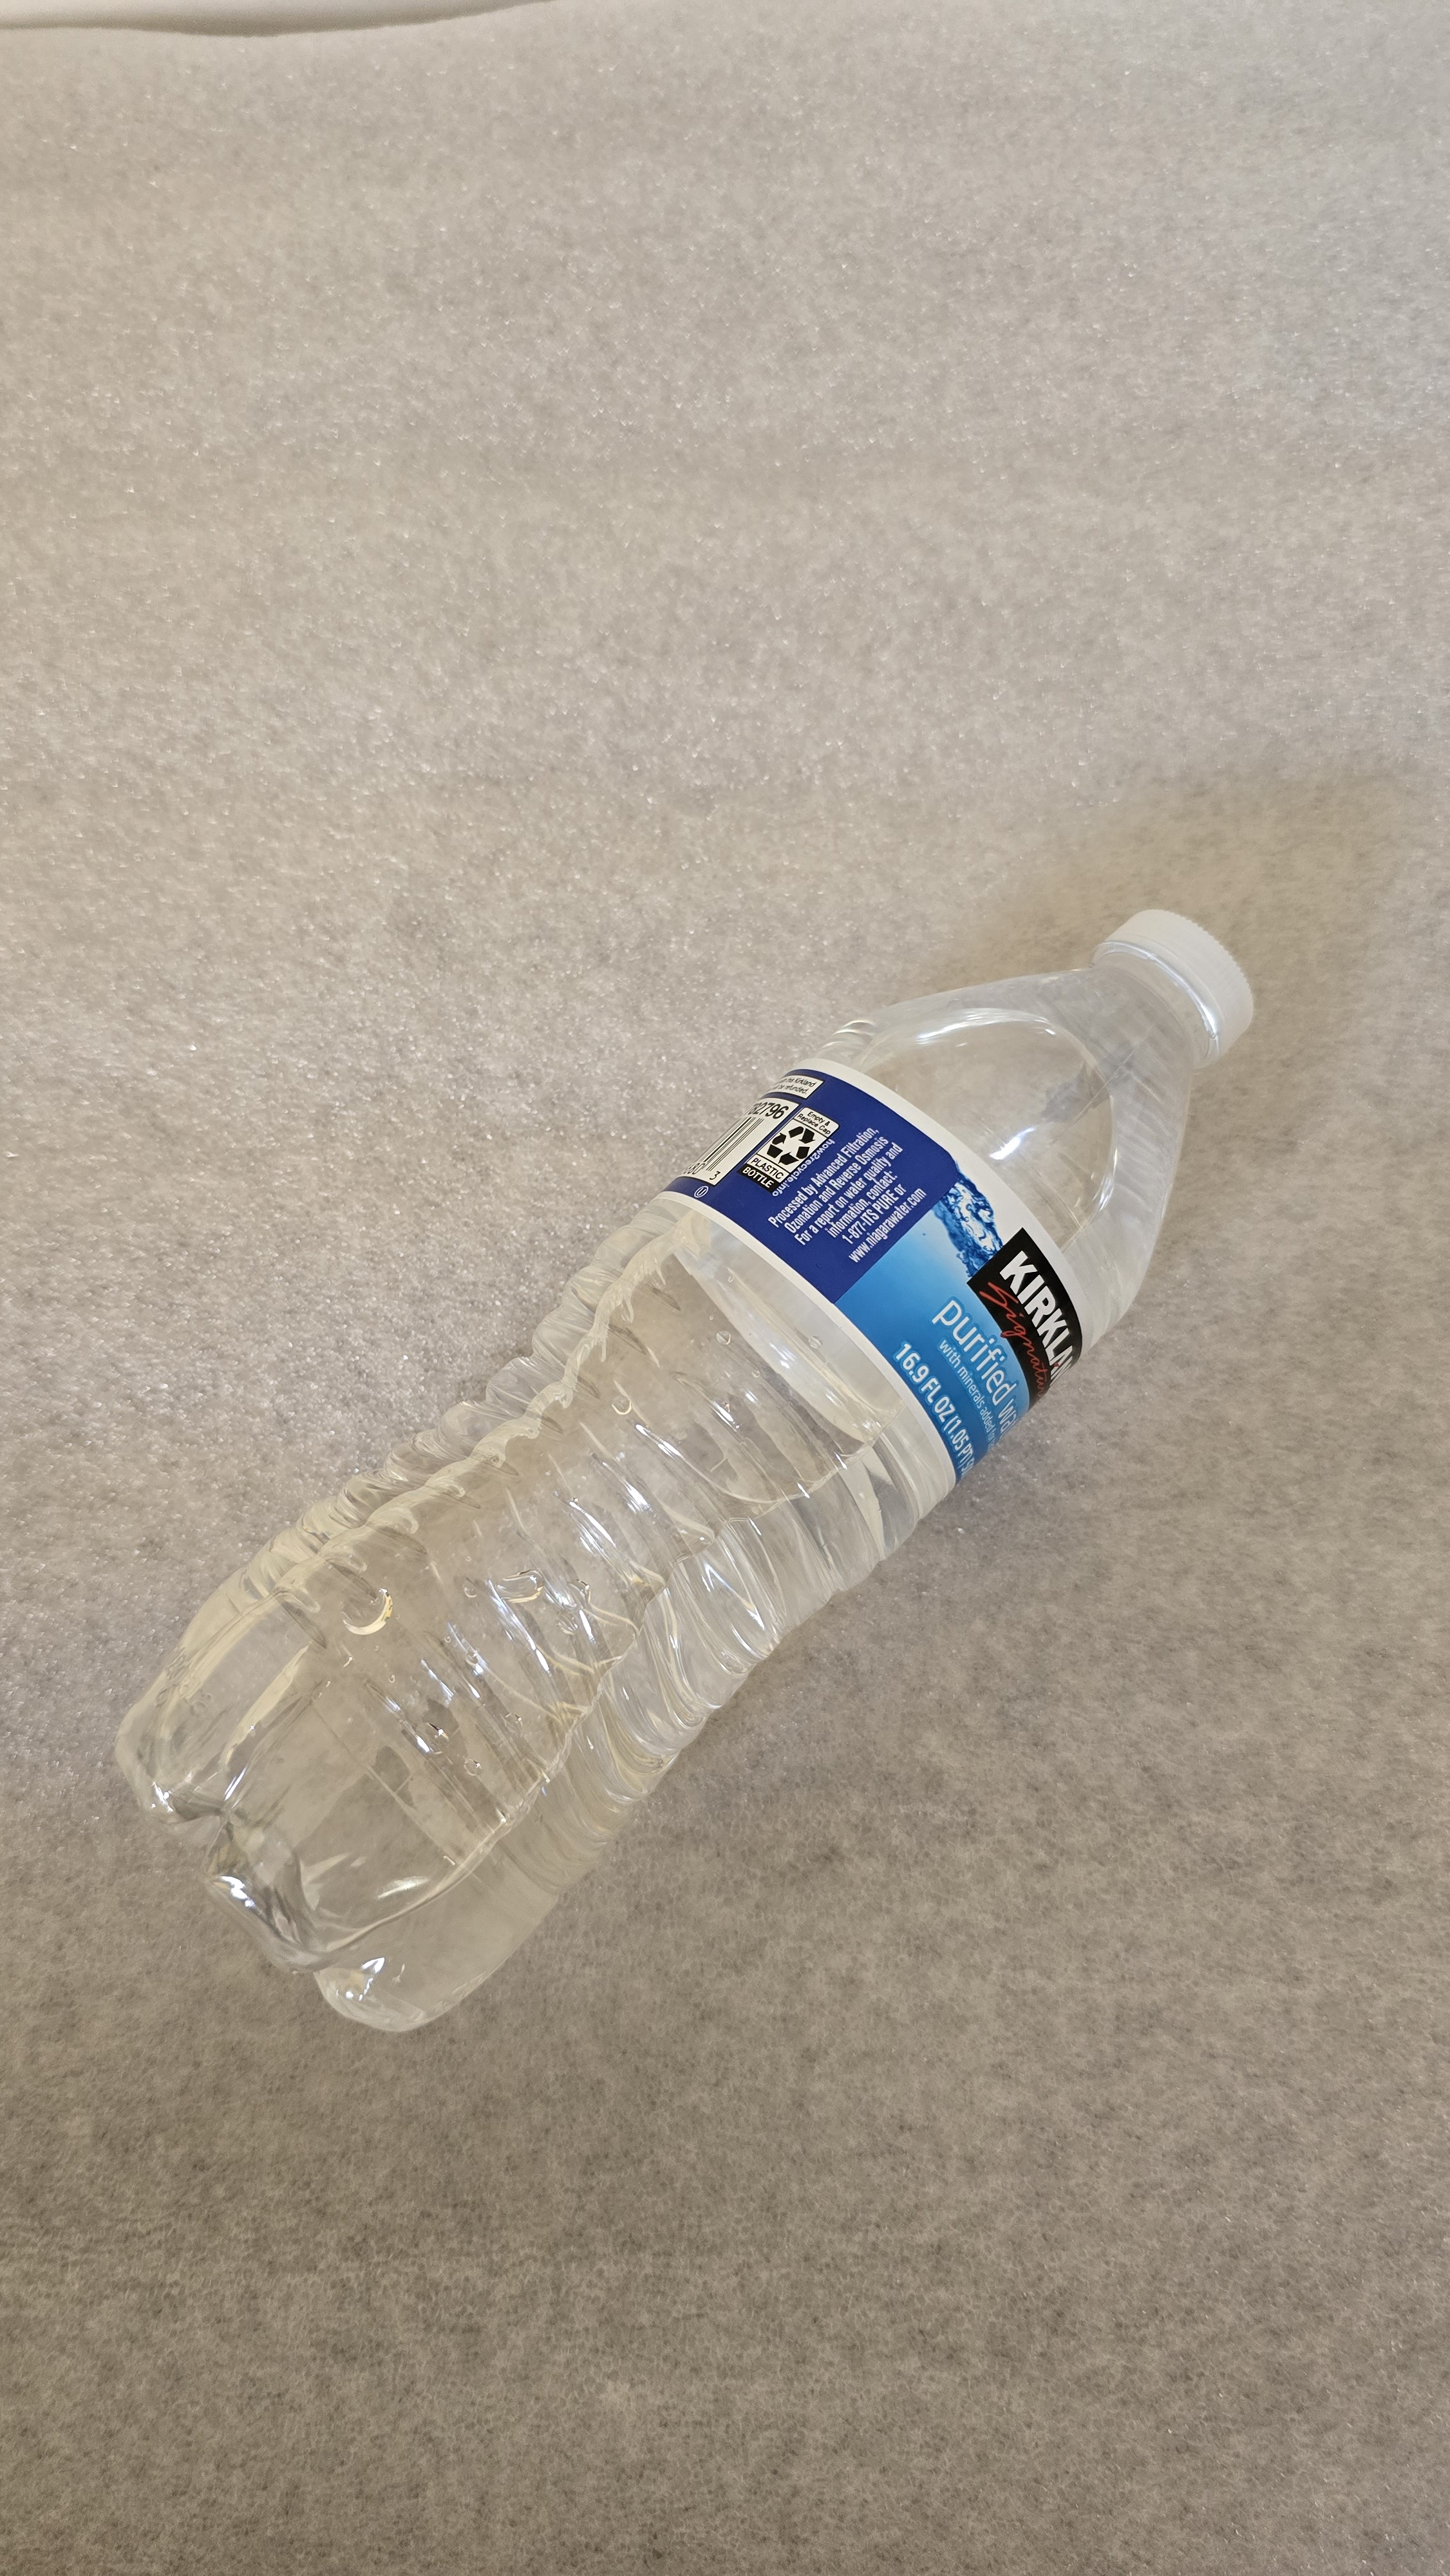bottle: (97, 874, 1303, 2051)
